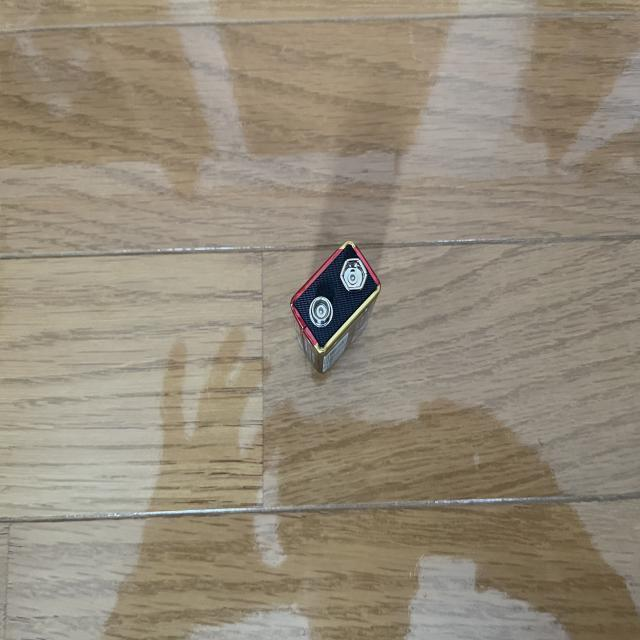9V: (289, 241, 383, 376)
